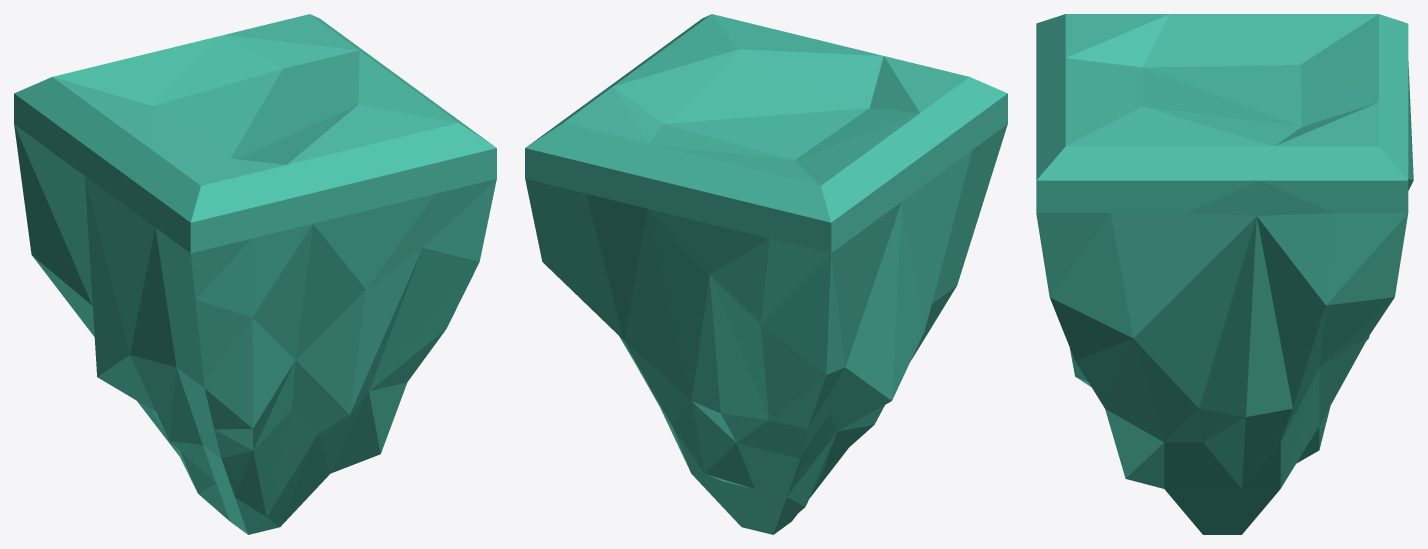
The model's file is crystal_plane_plane.FBX.
The picture shows the model from 3 angles, left to right: view 1: azimuth 30°, elevation 25°; view 2: azimuth 150°, elevation 25°; view 3: azimuth 270°, elevation 25°; orthographic projection. The views are drawn at different scales.
Visible parts, largest first — view 1: Box001; view 2: Box001; view 3: Box001.
Part boxes in pixels (x1,y1,x2,y2): Box001: (14,14,496,534); Box001: (525,14,1007,534); Box001: (1036,14,1413,534).
Size of the model in its own units: 40.67 by 53.88 by 40.59.
